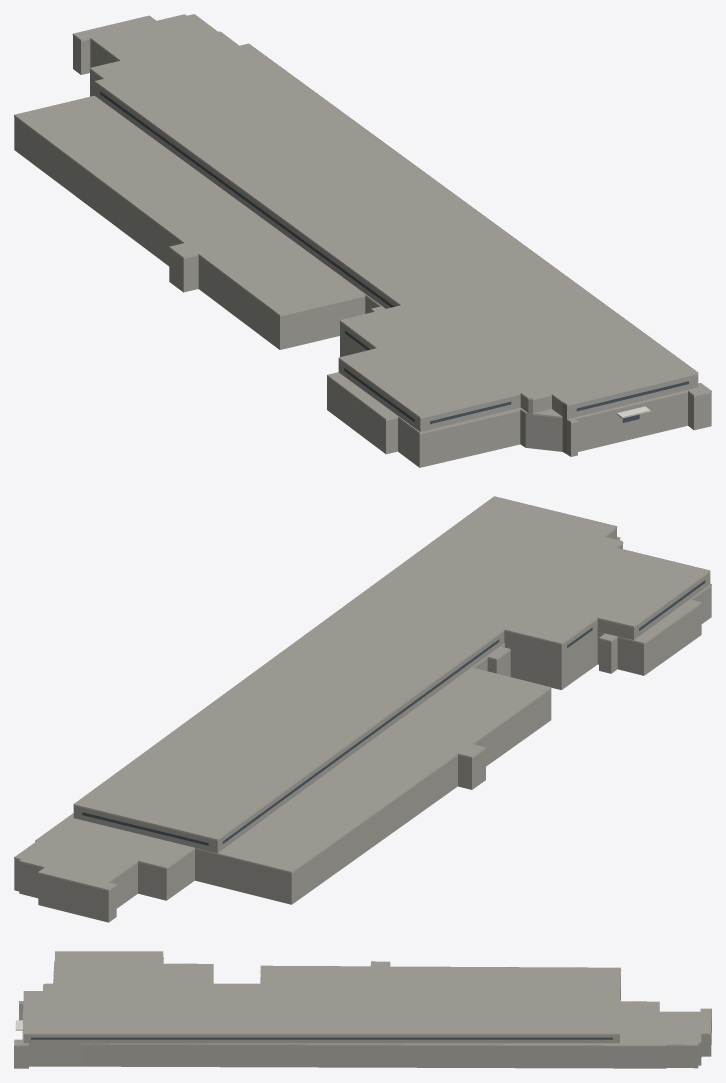
The model's file is university-plaza-ualr.glb.
3 renders of one model, top to bottom at view 1: azimuth 30°, elevation 25°; view 2: azimuth 150°, elevation 25°; view 3: azimuth 270°, elevation 25°, orthographic. The views are drawn at different scales.
Parts seen in each view (by area): view 1: university_plaza_ualr; view 2: university_plaza_ualr; view 3: university_plaza_ualr.
Part boxes in pixels (<box>): university_plaza_ualr: <box>14,14,711,467</box>; university_plaza_ualr: <box>14,496,711,922</box>; university_plaza_ualr: <box>14,951,711,1068</box>.
Bounding box in the file's own units: 87.15 × 15.19 × 290.
